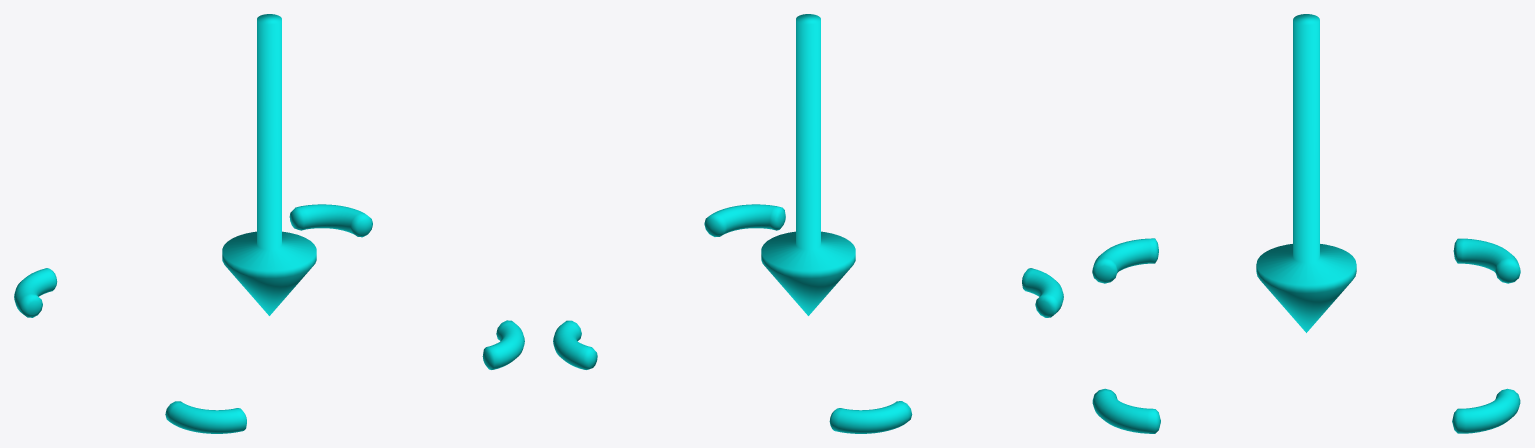
3 views of the same model, side by side, from view 1: azimuth 30°, elevation 25°; view 2: azimuth 150°, elevation 25°; view 3: azimuth 270°, elevation 25° (orthographic). The views are drawn at different scales.
Visible parts, largest first — view 1: Torus; view 2: Torus; view 3: Torus.
Part boxes in pixels (x1,y1,x2,y2): Torus: [14, 14, 524, 433]; Torus: [553, 14, 1063, 433]; Torus: [1092, 14, 1520, 433].
Size of the model in its own units: 0.85 by 0.7176 by 0.85.
